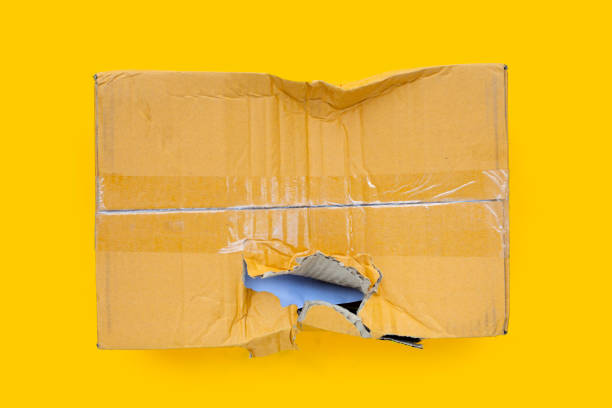damaged package: (240, 234, 435, 359), (265, 61, 438, 126), (238, 321, 295, 371)
